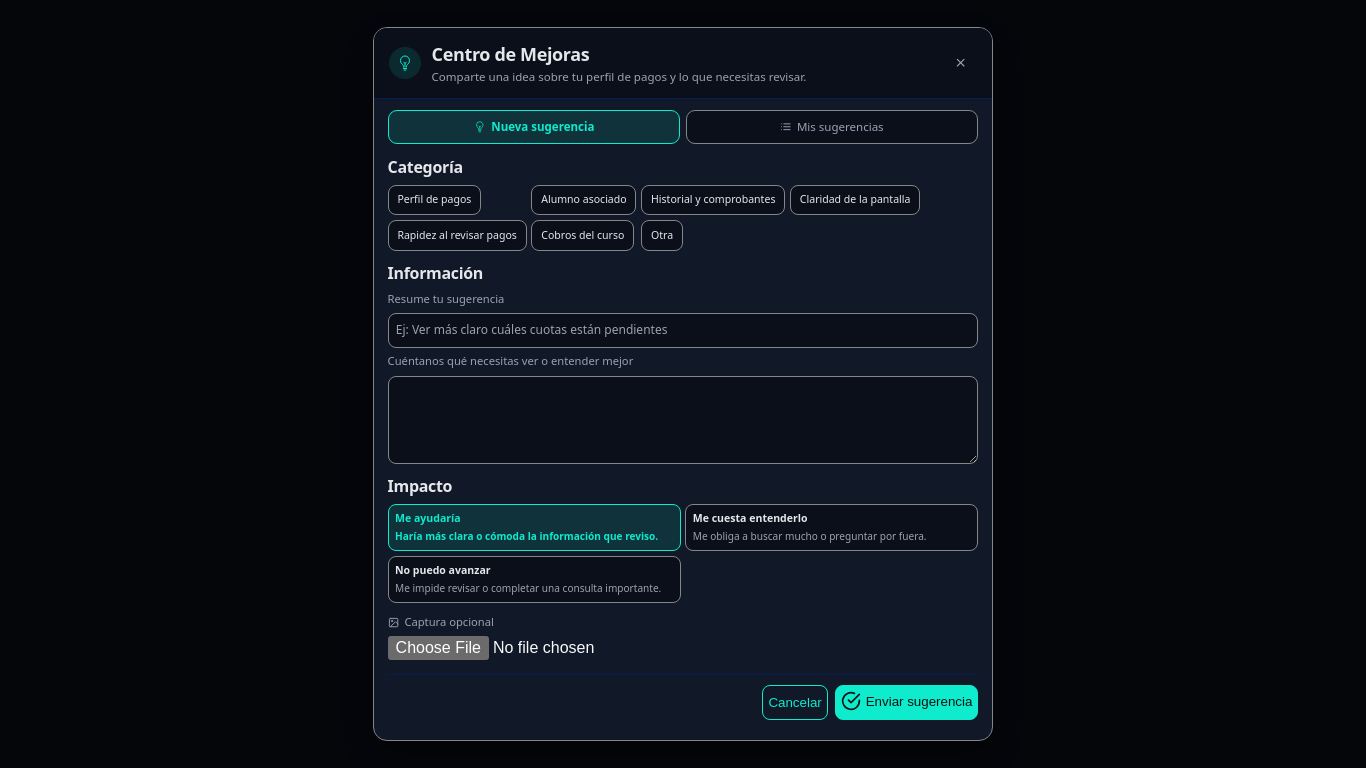
Test: ImprovementCenter › valida que exista una categoría antes de enviar
Type "Idea" into the field labelled "Resume tu sugerencia".
click(683, 330); type("Idea")  # box left=388, top=313, right=978, bottom=348
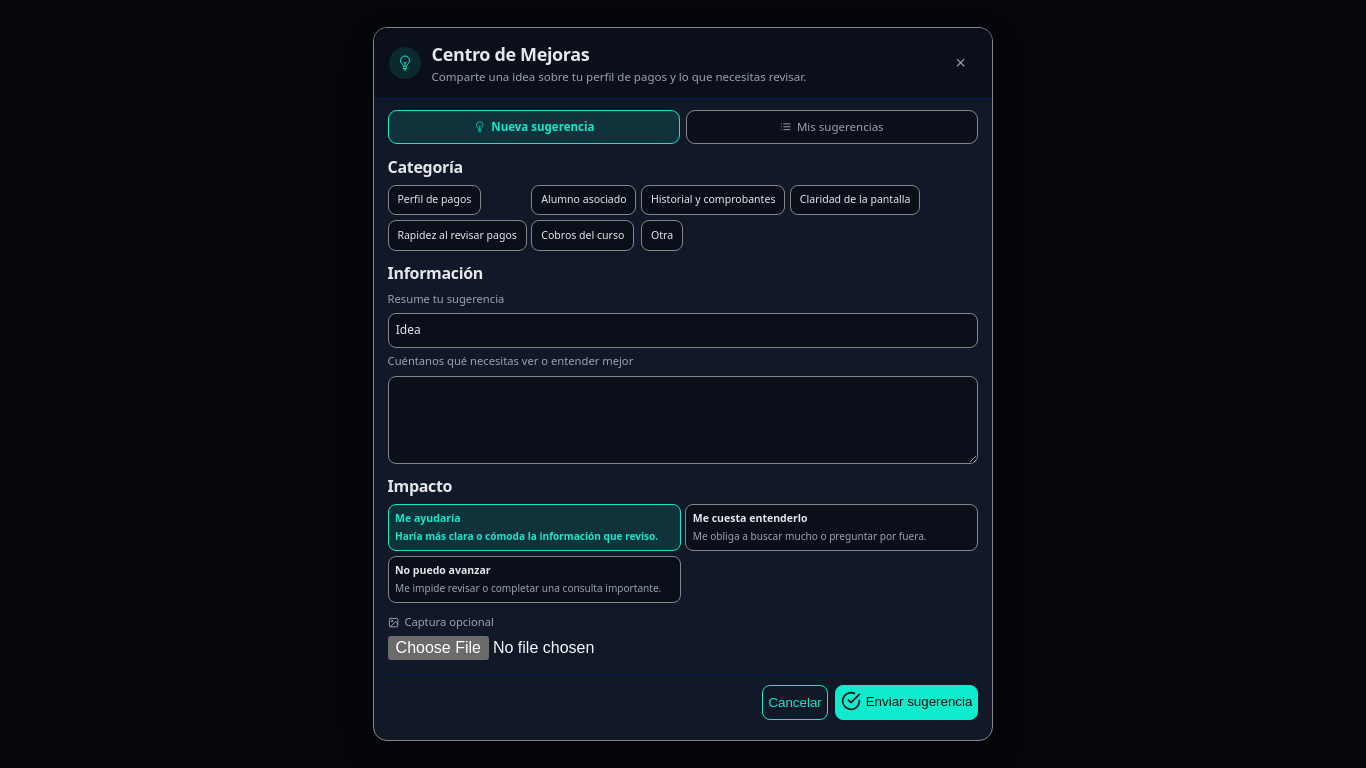
Type "Detalle suficiente" into the text box labelled "Cuéntanos qué necesitas ver o entender mejor".
click(683, 420); type("Detalle suficiente")  # box left=388, top=376, right=978, bottom=464
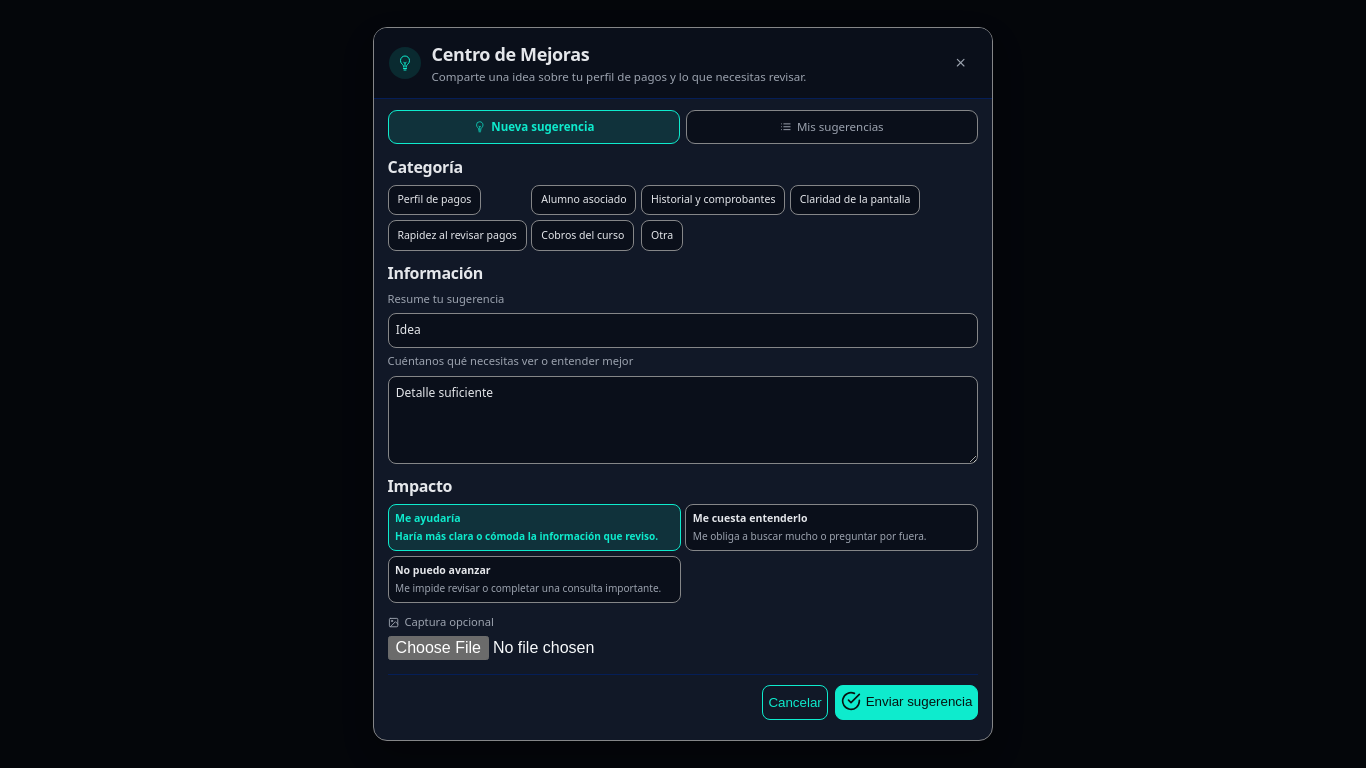
Click the button "Enviar sugerencia".
click(907, 703)  # box left=835, top=685, right=978, bottom=720
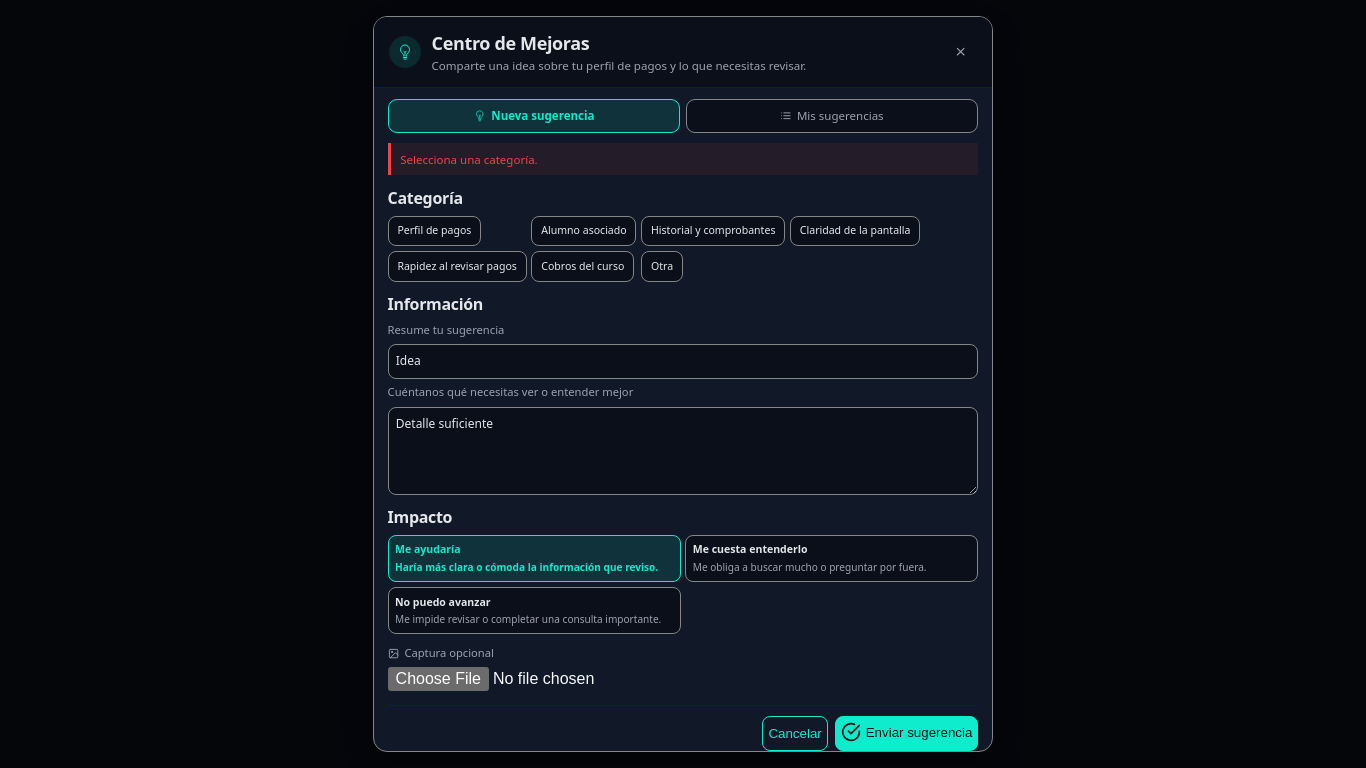
Now the text "Selecciona una categoría." is shown, box left=388, top=143, right=978, bottom=175
